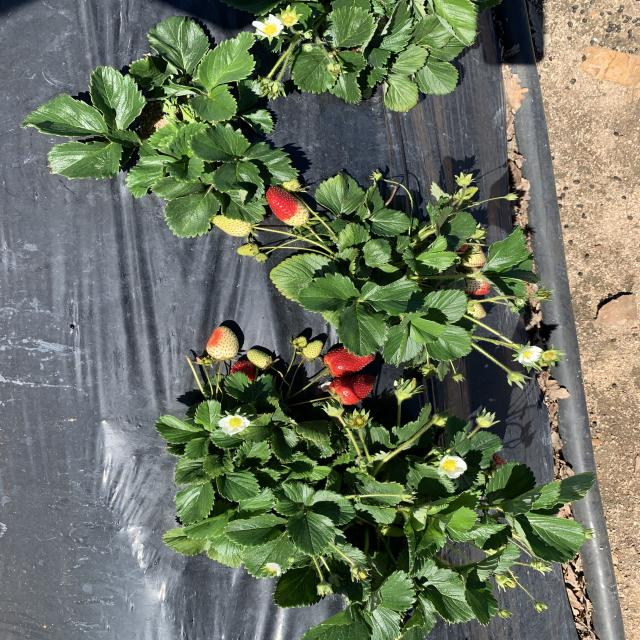unripe: (265, 186, 311, 224), (320, 346, 380, 375), (328, 373, 378, 402), (232, 361, 254, 384)
